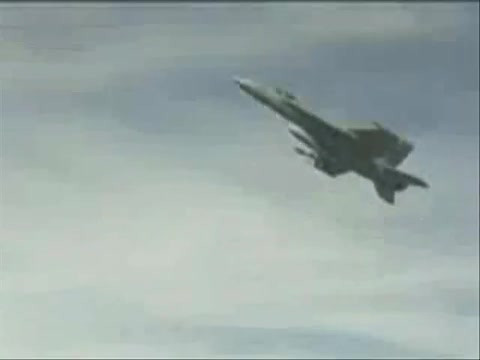aeroplane: (229, 70, 431, 207)
